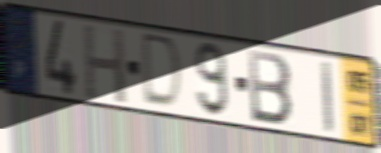4: (43, 17, 78, 100)
9: (193, 40, 231, 120)
B: (246, 47, 295, 129)
D: (141, 30, 186, 113)
H: (81, 20, 128, 107)
I: (320, 58, 336, 137)
